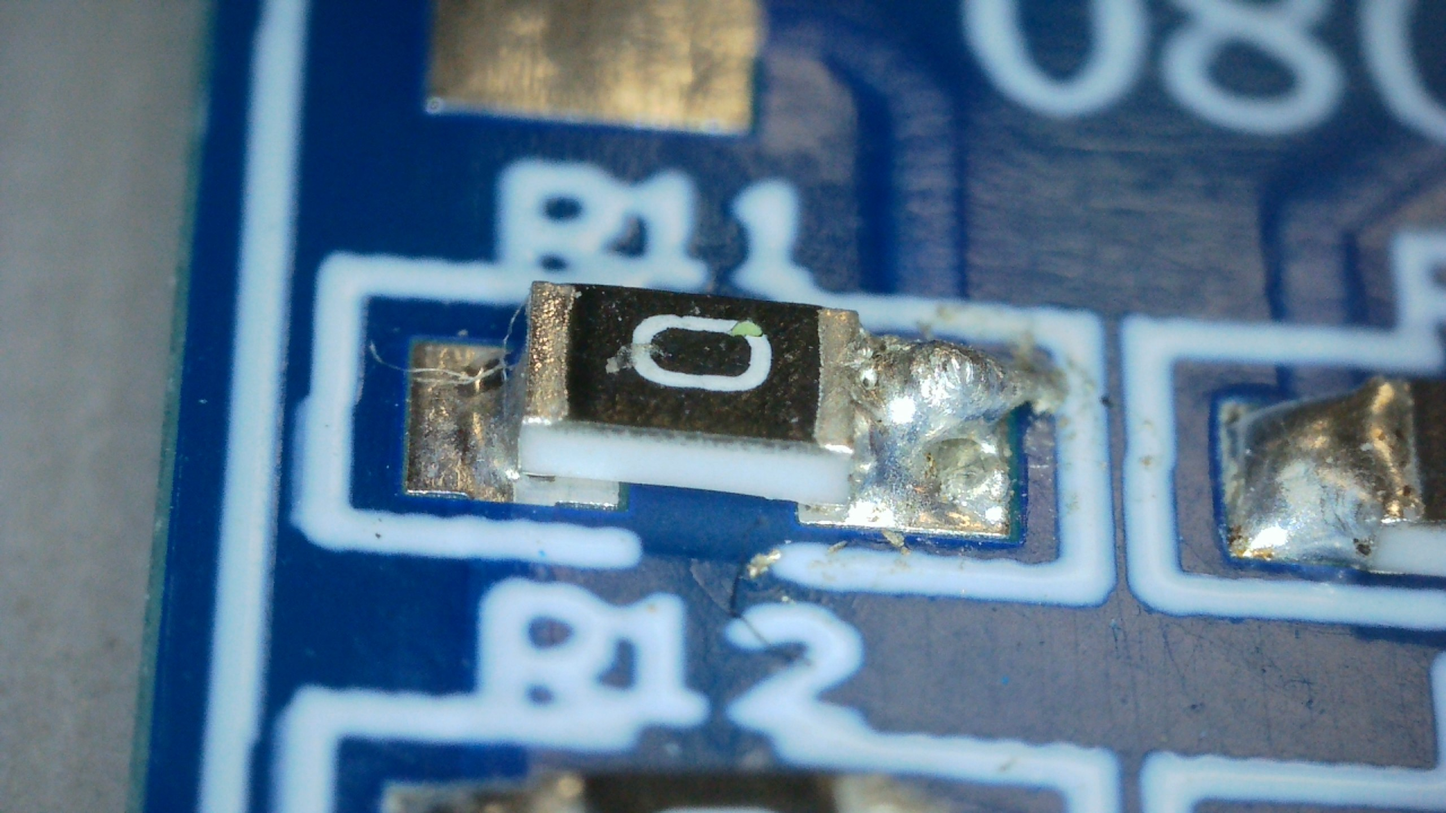NG: (815, 306, 1038, 507), (457, 282, 571, 492)
